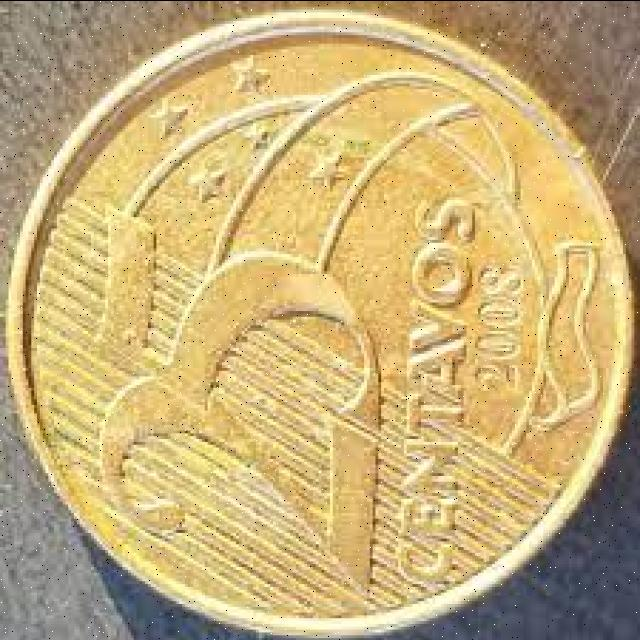25 cent: (3, 17, 609, 629)
